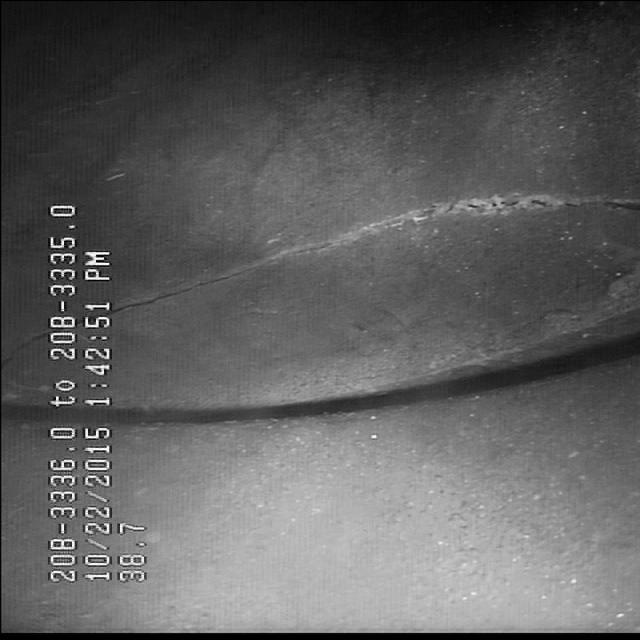Crack: (133, 174, 599, 306)
